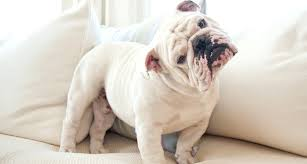Bulldog: (48, 1, 240, 159)
